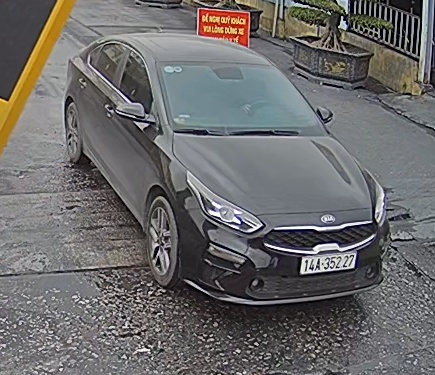vehicle plate: (299, 246, 356, 278)
